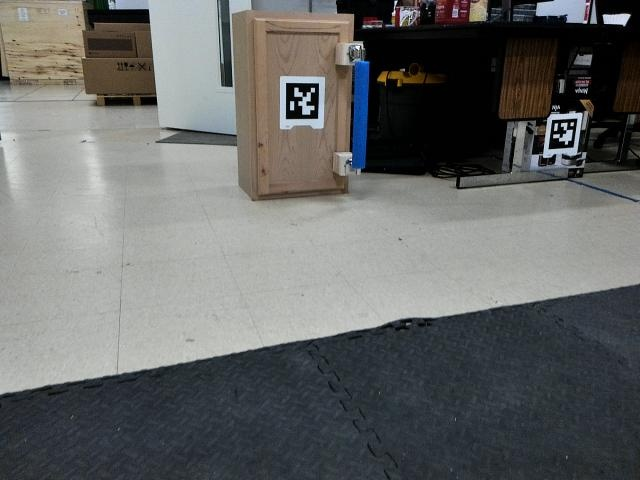noodle_handle: (342, 55, 377, 171)
